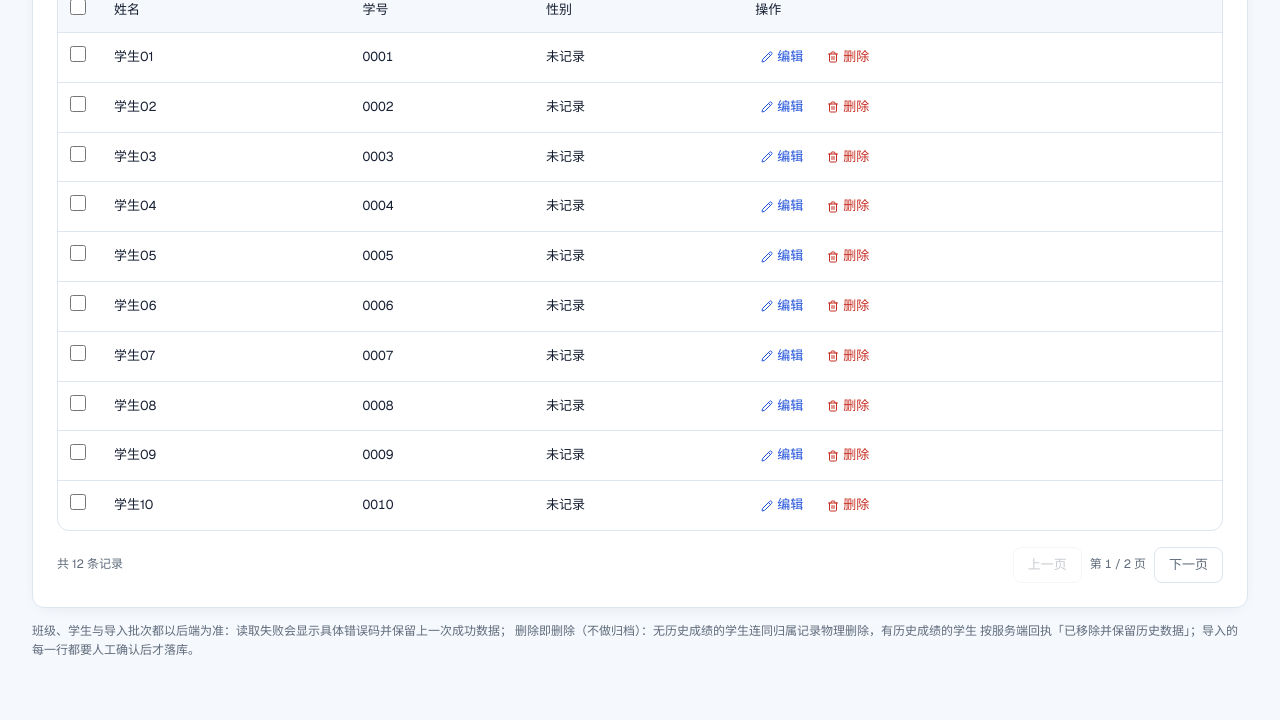
Test case: 班级管理页：学生列表版面（参考图） › 底部「共 N 条记录」+ 翻页：每页 10 条
The image size is (1280, 720).
(page scrolled)
Expected: the text with test id "assessments-students-total" reads "共 12 条记录", [57, 555, 123, 574]
Expected: the text with test id "assessments-students-page" reads "第 1 / 2 页", [1090, 555, 1146, 575]
Click the button "下一页" at (1188, 565), box [1154, 547, 1223, 583]
(page scrolled)
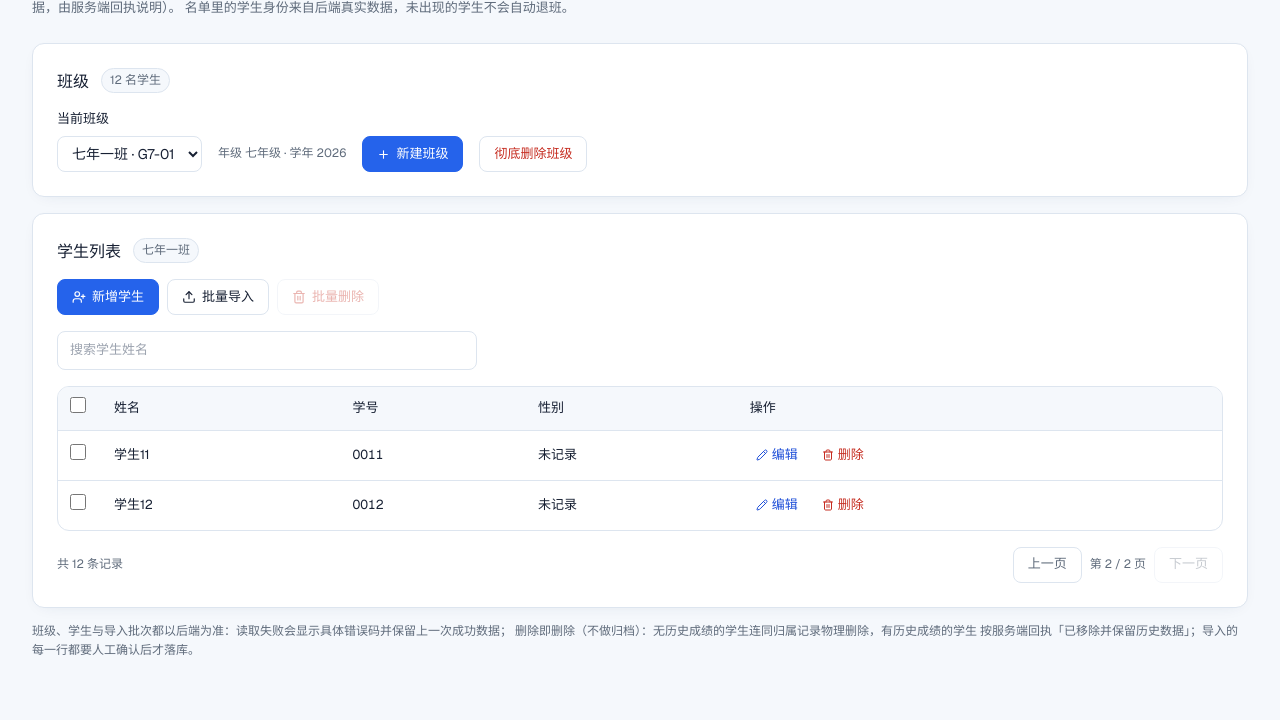
Expected: the text with test id "assessments-students-page" reads "第 2 / 2 页", [1090, 555, 1146, 574]
Expected: the text "学生11" is shown, [114, 446, 150, 463]
Expected: the text "学生10" is gone
Click the button "上一页" at (1047, 564), box [1013, 546, 1082, 582]
(page scrolled)
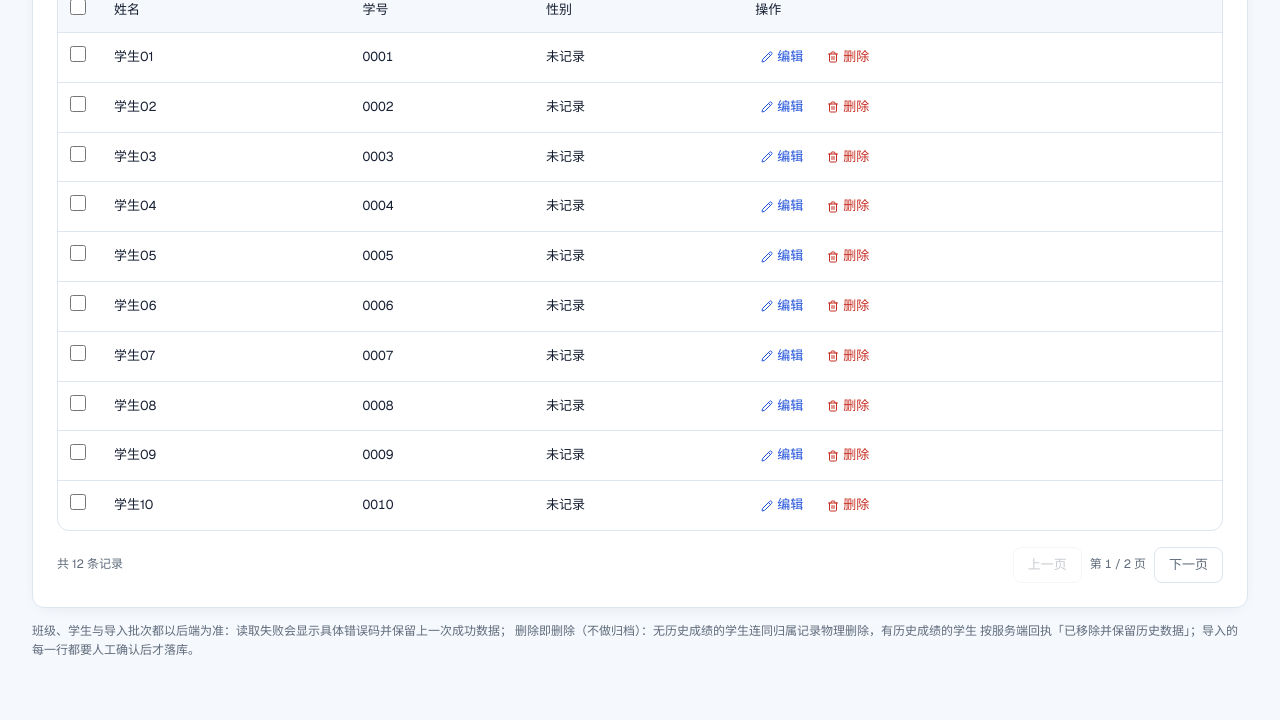
Expected: the text with test id "assessments-students-page" reads "第 1 / 2 页", [1090, 555, 1146, 575]
